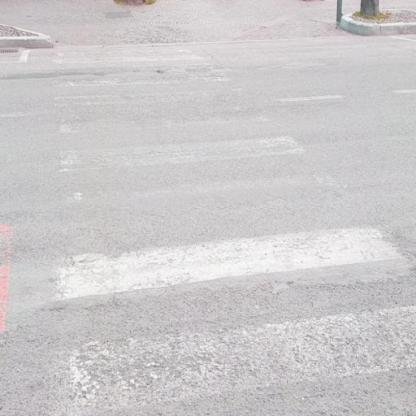crosswalk: (47, 161, 409, 309)
